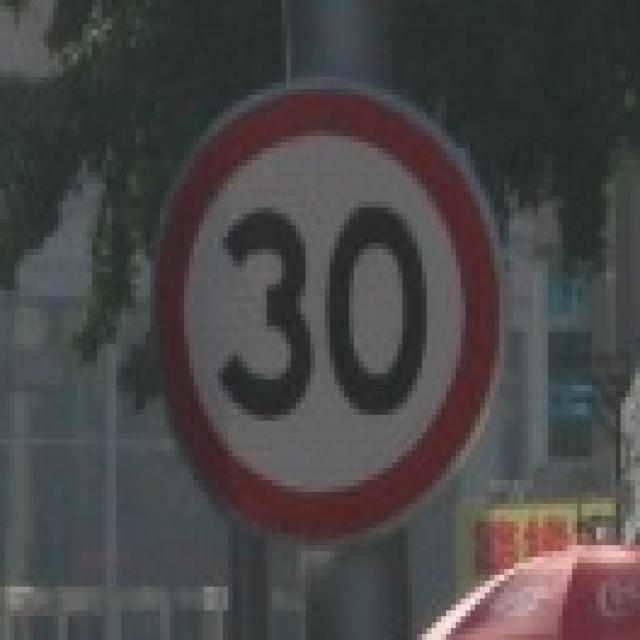Speed Limit -30-: (214, 197, 433, 424)
